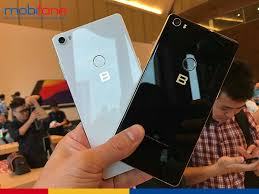bphone: (114, 11, 241, 192), (49, 10, 153, 181)
